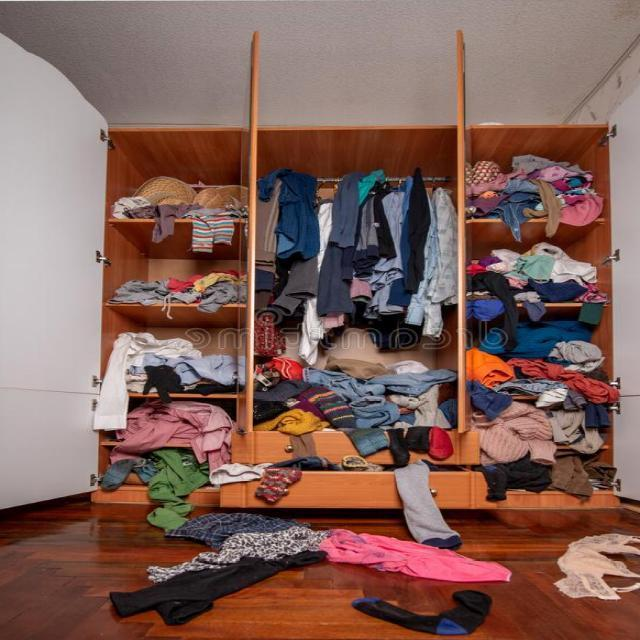clothes: (284, 175, 455, 334), (120, 524, 323, 618), (489, 346, 594, 485), (291, 530, 501, 572), (346, 588, 504, 640), (106, 328, 226, 392), (550, 532, 640, 610), (128, 171, 244, 225), (482, 160, 582, 220), (122, 260, 246, 308), (484, 249, 584, 305), (398, 464, 459, 548)
